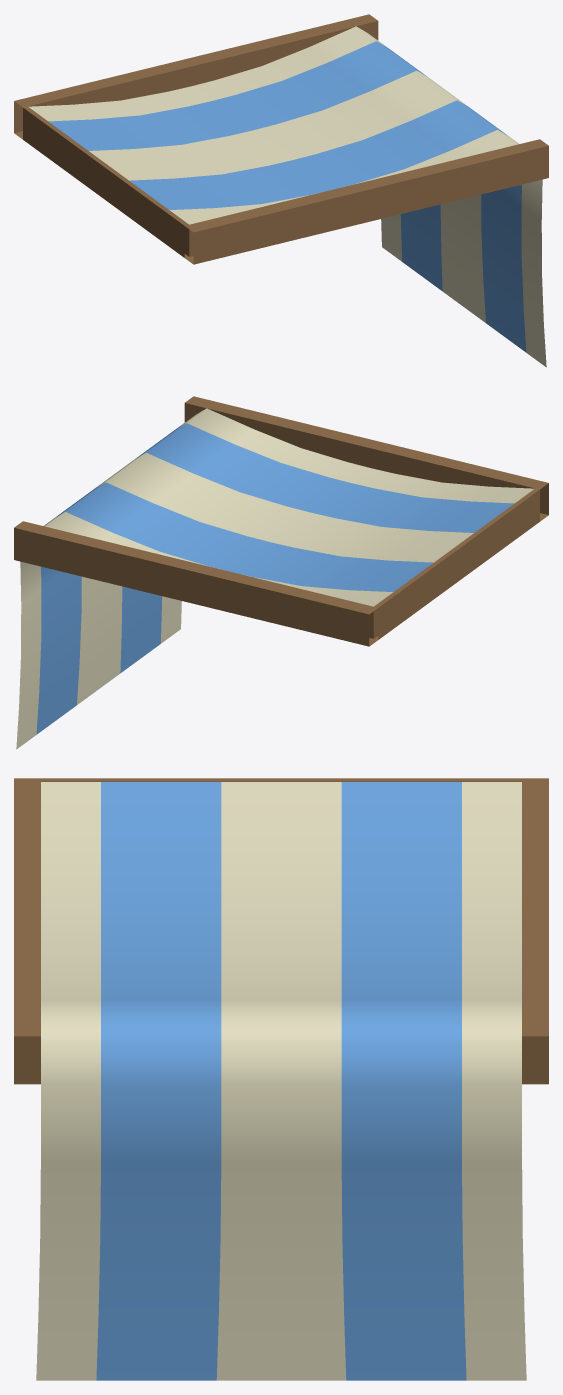
The model's file is Apartment_awning.fbx.
3 views of the same model, one above another, from view 1: azimuth 30°, elevation 25°; view 2: azimuth 150°, elevation 25°; view 3: azimuth 270°, elevation 25° (orthographic). The views are drawn at different scales.
Visible parts, largest first — view 1: Apartment_awning; view 2: Apartment_awning; view 3: Apartment_awning.
Boxes of the visible parts, x1,y1,x2,y2 form: Apartment_awning: (14,14,548,367); Apartment_awning: (14,396,548,749); Apartment_awning: (14,778,548,1380).
Bounding box in the file's own units: 1.52 × 0.9224 × 1.31.
